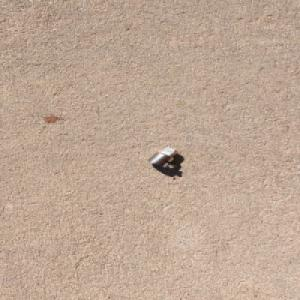MetalPart: (146, 146, 181, 170)
